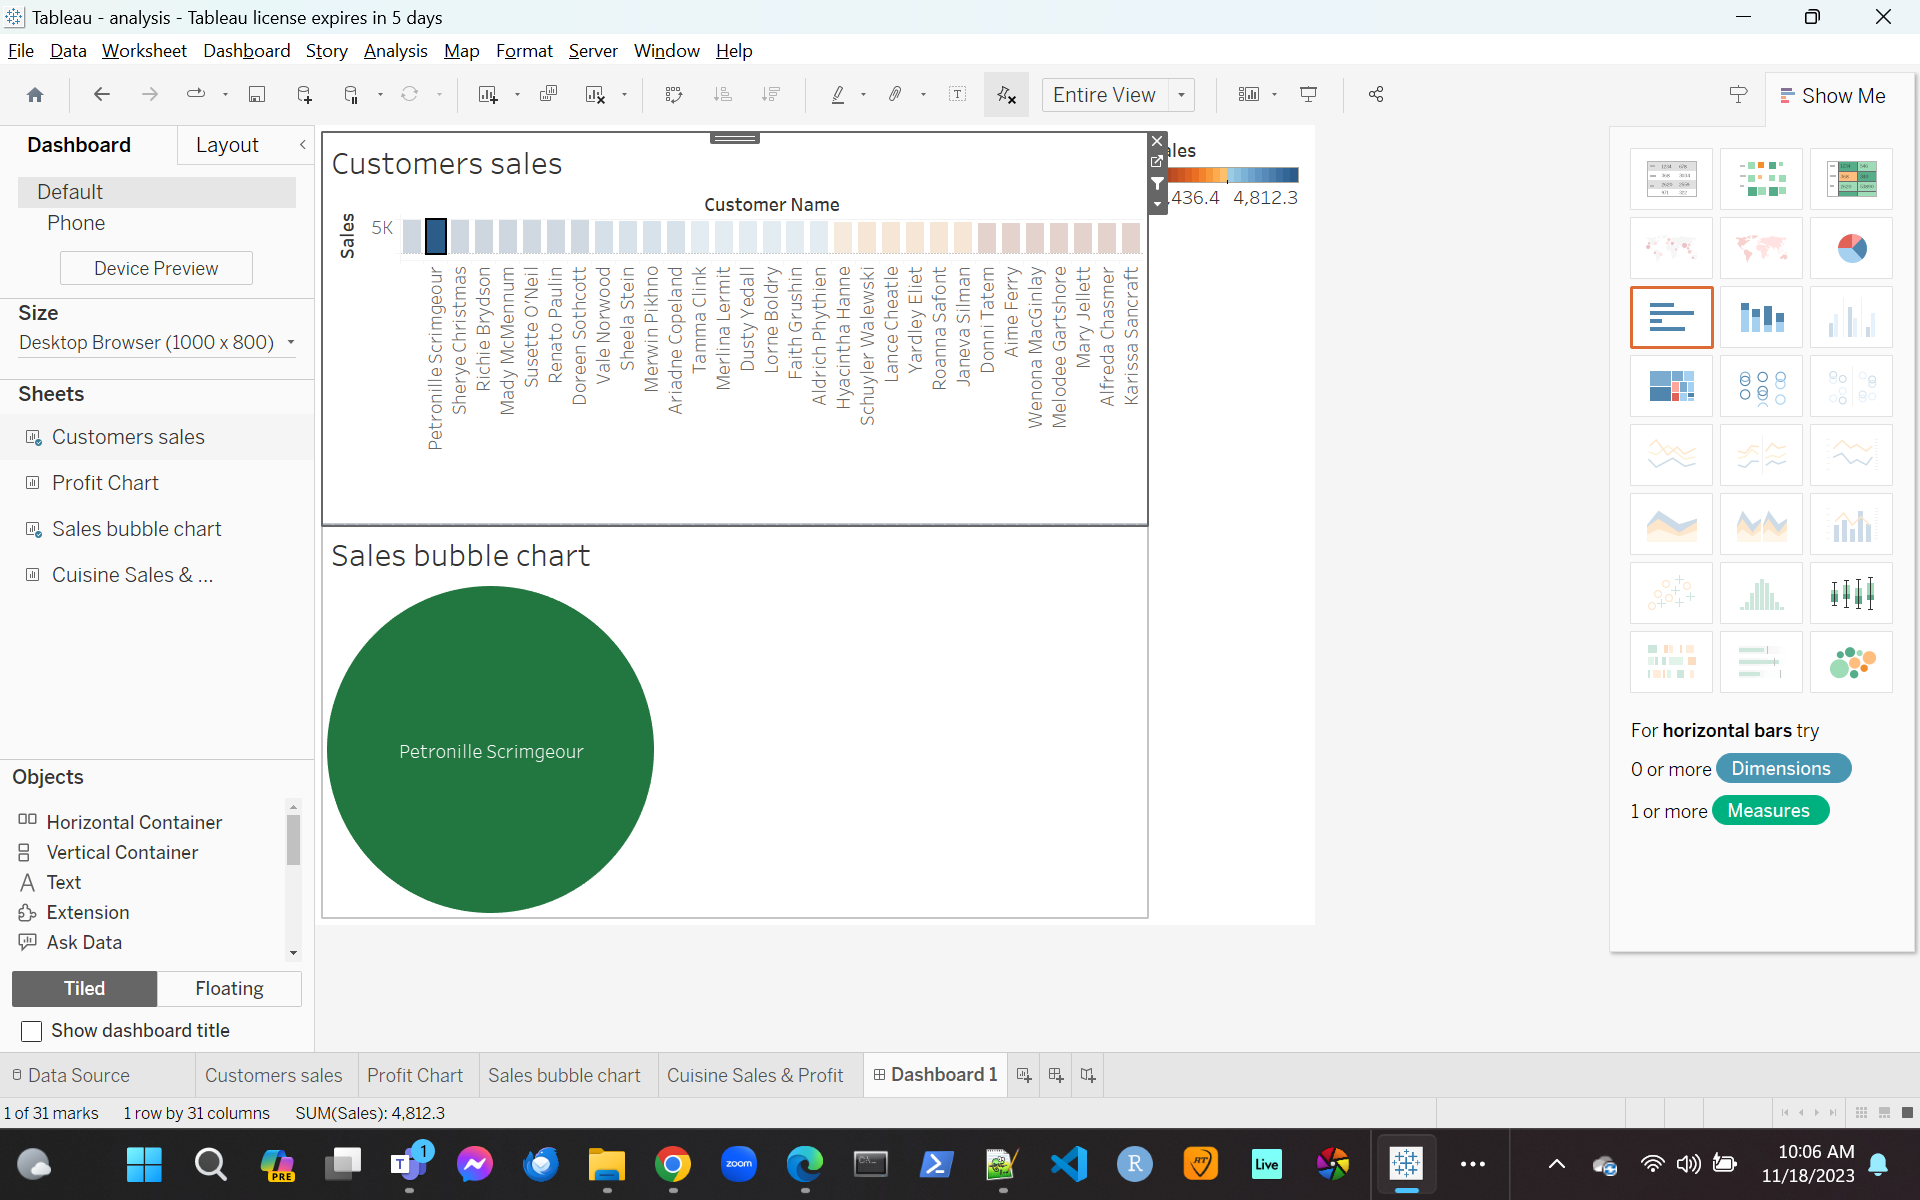

The dashboard page shown, as its layout file describes it:
{"tool":"tableau","page":{"name":"Dashboard 1","canvas":[1000,800],"ordinal":0},"visuals":[{"type":"worksheet","title":"Customers sales","mark":"Automatic","rows":["Sales"],"cols":["Customer Name"],"box":[8,8,824,392]},{"type":"legend","title":"Customers sales","param":"[federated.0ak3vg10pw4fkf115sy9u0mvzxvu].[sum:Sales:qk]","box":[832,8,160,81]},{"type":"worksheet","title":"Sales bubble chart","mark":"Circle","box":[8,400,824,392]}]}

Visuals, with their boxes on the page's 1000x800 design canvas (x1, y1, x2, y2). These are canvas units, not pixel positions in the 1920x1200 screenshot, which may show the page scaled, cropped or inside an application window:
"Customers sales" worksheet: [8, 8, 832, 400]
"Customers sales" legend: [832, 8, 992, 89]
"Sales bubble chart" worksheet (Circle marks): [8, 400, 832, 792]
